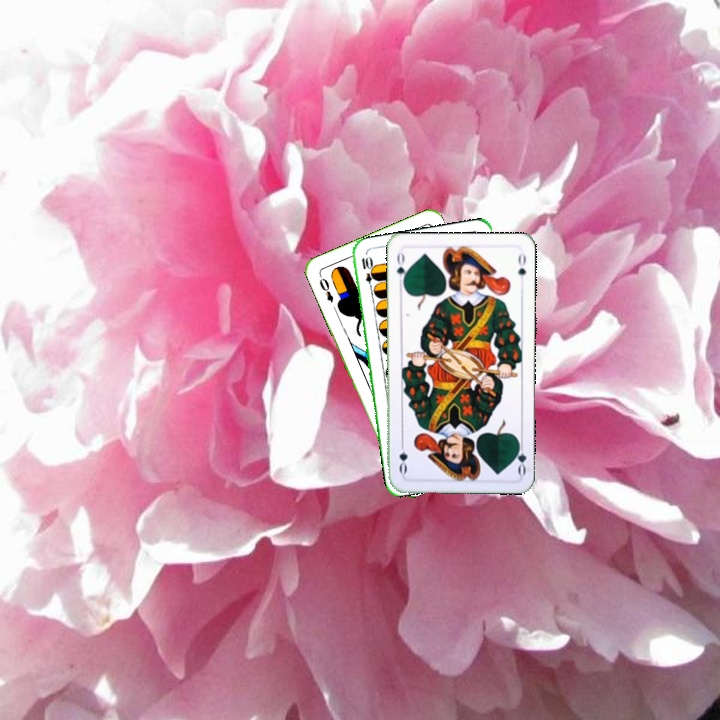E10: (357, 253, 376, 293)
EO: (315, 271, 336, 305)
GO: (510, 437, 529, 477), (392, 248, 409, 288)
